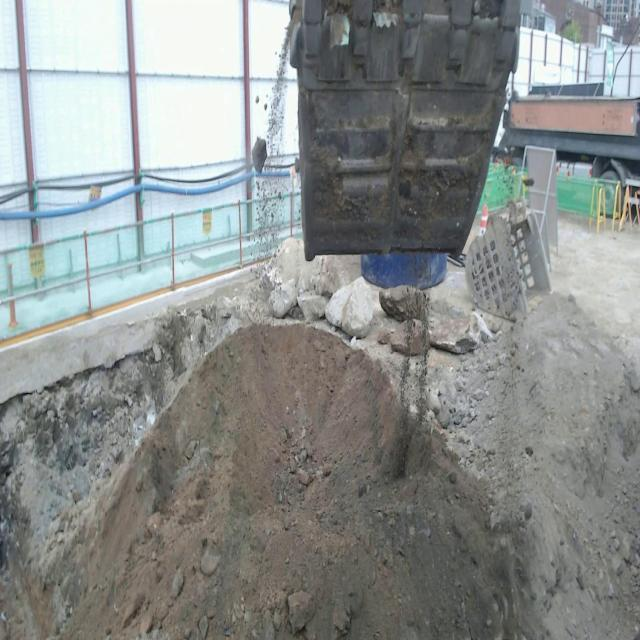stone: (258, 237, 360, 320), (429, 293, 493, 353), (325, 276, 373, 337), (379, 286, 429, 325), (389, 319, 427, 356)
white-sand: (0, 222, 640, 639)
